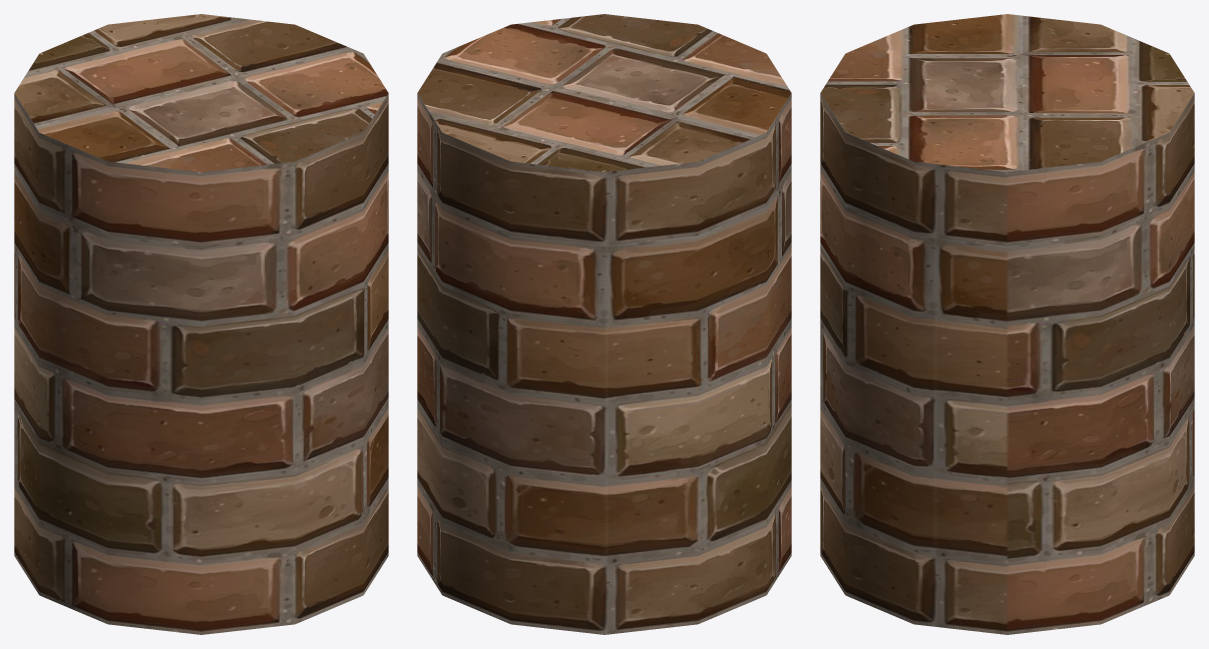
The model's file is PIL0110006.FBX.
The picture shows the model from 3 angles, left to right: view 1: azimuth 30°, elevation 25°; view 2: azimuth 150°, elevation 25°; view 3: azimuth 270°, elevation 25°; orthographic projection.
Visible parts, largest first — view 1: smPIL0110006; view 2: smPIL0110006; view 3: smPIL0110006.
Part boxes in pixels (x1,y1,x2,y2): smPIL0110006: [14, 14, 388, 634]; smPIL0110006: [417, 14, 791, 634]; smPIL0110006: [820, 14, 1194, 634].
Bounding box in the file's own units: 0.6275 × 0.8557 × 0.6275.
Materials: 1 (1 with a texture image).
